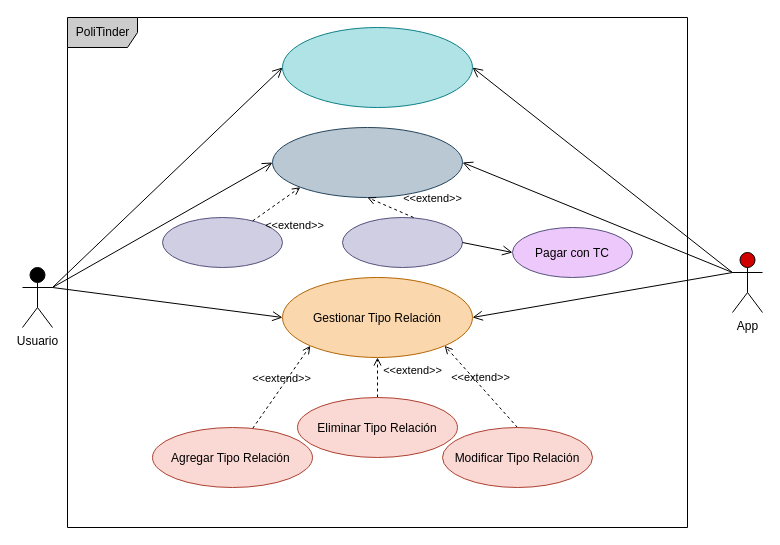
The diagram is 780 pixels wide and 545 high, and some of its shapes have lost their labels. The shapes that lost their labels are listed below. From the top down, each one's centre as x and y in pixels, then its label:
At point 377,67: "Salir de la App".
At point 367,162: "Gestionar Regalos".
At point 222,242: "Recibir Regalo".
At point 402,242: "Enviar Regalo".
